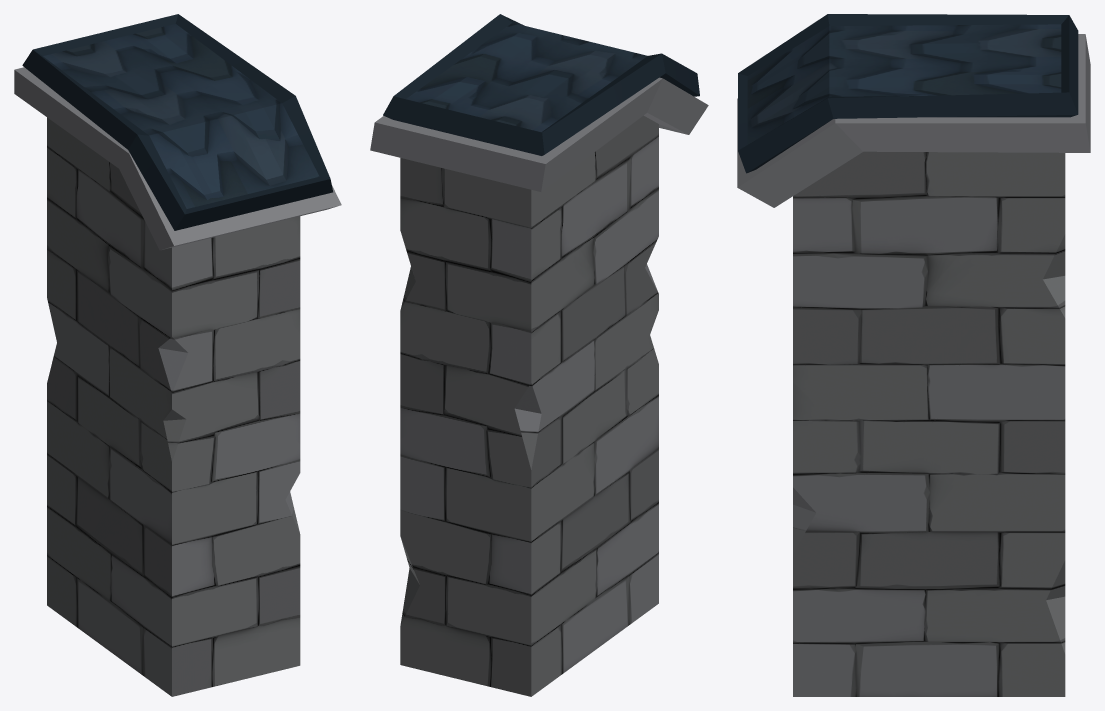
File: SM_Bld_Buttress_Pillar_02.fbx
3 renders of one model, left to right at view 1: azimuth 30°, elevation 25°; view 2: azimuth 150°, elevation 25°; view 3: azimuth 270°, elevation 25°, orthographic. The views are drawn at different scales.
Parts seen in each view (by area): view 1: SM_Bld_Buttress_Pillar_02; view 2: SM_Bld_Buttress_Pillar_02; view 3: SM_Bld_Buttress_Pillar_02.
Part boxes in pixels (x1=…): SM_Bld_Buttress_Pillar_02: x1=14, y1=14, x2=341, y2=696; SM_Bld_Buttress_Pillar_02: x1=370, y1=14, x2=708, y2=696; SM_Bld_Buttress_Pillar_02: x1=737, y1=14, x2=1090, y2=696.
Bounding box in the file's own units: 98.96 × 306 × 161.
